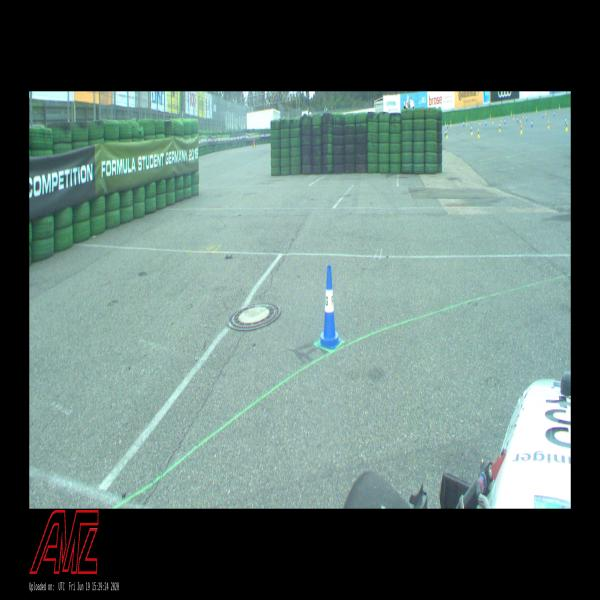blue_cone: (318, 265, 341, 350)
